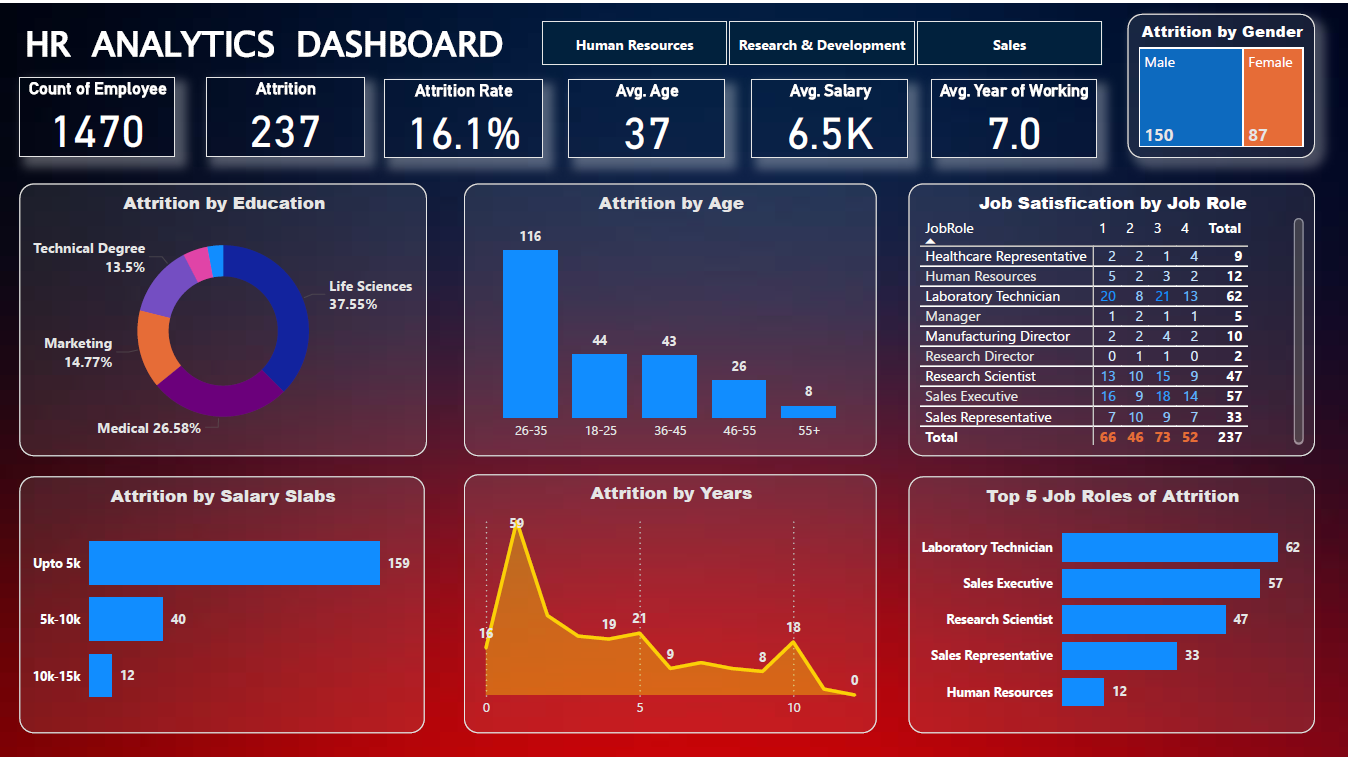

The page's visual inventory and layout, read from the dashboard file:
{"tool":"powerbi","page":{"name":"Page 1","canvas":[1280,720],"ordinal":0},"visuals":[{"type":"card","title":"Count of Employee","fields":{"Values":["Count(HR_Analytics.EmpID)"]},"box":[18.6,70,148.6,75.7],"z":0},{"type":"card","title":"Attrition","fields":{"Values":["Sum(HR_Analytics.Attraition_Count)"]},"box":[196.4,70.2,150.6,75.3],"z":1000},{"type":"card","title":"Attrition Rate","fields":{"Values":["HR_Analytics.Attration_Rate"]},"box":[365.5,71.7,150.6,75.3],"z":2000},{"type":"card","title":"Avg. Age","fields":{"Values":["Avg(HR_Analytics.Age)"]},"box":[540.2,71.7,149.2,75.3],"z":3000},{"type":"card","title":"Avg. Salary","fields":{"Values":["Avg(HR_Analytics.MonthlyIncome)"]},"box":[713.6,71.7,149.2,75.3],"z":4000},{"type":"card","title":"Avg. Year of Working","fields":{"Values":["Avg(HR_Analytics.YearsAtCompany)"]},"box":[884.1,71.7,157.7,75.3],"z":5000},{"type":"donutChart","title":"Attrition by Education","fields":{"Category":["HR_Analytics.EducationField"],"Y":["Sum(HR_Analytics.Attraition_Count)"]},"box":[18.6,171.1,387.1,258.6],"z":6000},{"type":"columnChart","title":"Attrition by Age","fields":{"Category":["HR_Analytics.AgeGroup"],"Y":["Sum(HR_Analytics.Attraition_Count)"]},"box":[441.4,171.4,391.4,258.6],"z":7000},{"type":"pivotTable","title":"Job Satisfication by Job Role","fields":{"Rows":["HR_Analytics.JobRole"],"Columns":["HR_Analytics.JobSatisfaction"],"Values":["Sum(HR_Analytics.Attraition_Count)"]},"box":[862.9,171.4,385.7,258.6],"z":8000},{"type":"clusteredBarChart","title":"Top 5 Job Roles of Attrition","fields":{"Y":["Sum(HR_Analytics.Attraition_Count)"],"Category":["HR_Analytics.JobRole"]},"box":[862.9,448.6,385.7,244.3],"z":9000},{"type":"areaChart","title":"Attrition by Years","fields":{"Category":["HR_Analytics.YearsAtCompany"],"Y":["Sum(HR_Analytics.Attraition_Count)"]},"box":[441.4,447.1,391.4,245.7],"z":10000},{"type":"treemap","title":"Attrition by Gender","fields":{"Values":["Sum(HR_Analytics.Attraition_Count)"],"Group":["HR_Analytics.Gender"]},"box":[1071.4,10,177.1,137.1],"z":11000},{"type":"slicer","fields":{"Values":["HR_Analytics.Department"]},"box":[488.6,10,582.9,55.7],"z":12000},{"type":"clusteredBarChart","title":"Attrition by Salary Slabs","fields":{"Y":["Sum(HR_Analytics.Attraition_Count)"],"Category":["HR_Analytics.SalarySlab"]},"box":[18.6,448.6,385.7,244.3],"z":13000},{"type":"textbox","box":[18.6,10,521.4,68.6],"z":14000}]}

Visuals, with their boxes in screenshot pixels (x1, y1, x2, y2), scaled from the page's 1280x720 canvas onto the 1348x757 screenshot:
"Count of Employee" card: rect(20, 74, 176, 153)
"Attrition" card: rect(207, 74, 365, 153)
"Attrition Rate" card: rect(385, 75, 544, 155)
"Avg. Age" card: rect(569, 75, 726, 155)
"Avg. Salary" card: rect(752, 75, 909, 155)
"Avg. Year of Working" card: rect(931, 75, 1097, 155)
"Attrition by Education" donutChart: rect(20, 180, 427, 452)
"Attrition by Age" columnChart: rect(465, 180, 877, 452)
"Job Satisfication by Job Role" pivotTable: rect(909, 180, 1315, 452)
"Top 5 Job Roles of Attrition" clusteredBarChart: rect(909, 472, 1315, 729)
"Attrition by Years" areaChart: rect(465, 470, 877, 728)
"Attrition by Gender" treemap: rect(1128, 11, 1315, 155)
slicer - HR_Analytics.Department: rect(515, 11, 1128, 69)
"Attrition by Salary Slabs" clusteredBarChart: rect(20, 472, 426, 729)
textbox: rect(20, 11, 569, 83)
